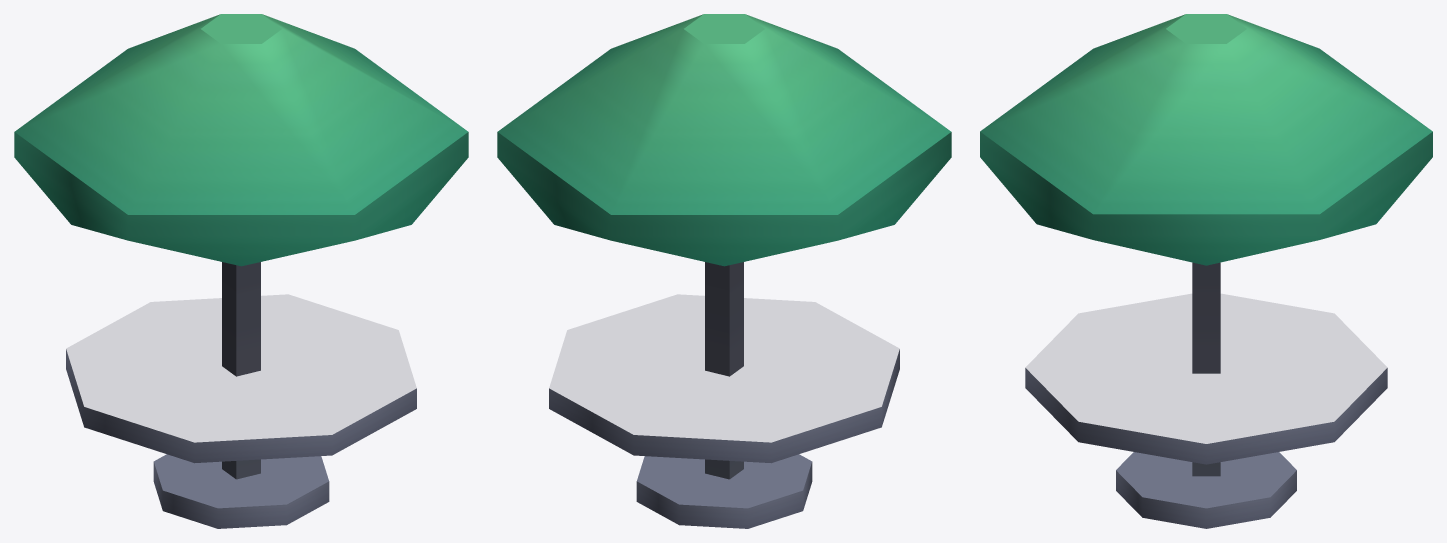
File: detail-parasol-b.glb
3 views of the same model, side by side, from view 1: azimuth 30°, elevation 25°; view 2: azimuth 150°, elevation 25°; view 3: azimuth 270°, elevation 25° (orthographic).
Visible parts, largest first — view 1: detail-parasol-b; view 2: detail-parasol-b; view 3: detail-parasol-b.
Part boxes in pixels (x1,y1,x2,y2): detail-parasol-b: (14, 14, 468, 528); detail-parasol-b: (497, 14, 951, 528); detail-parasol-b: (980, 14, 1432, 528).
Bounding box in the file's own units: 0.3464 × 0.45 × 0.4.
1 material, 1 textured.
